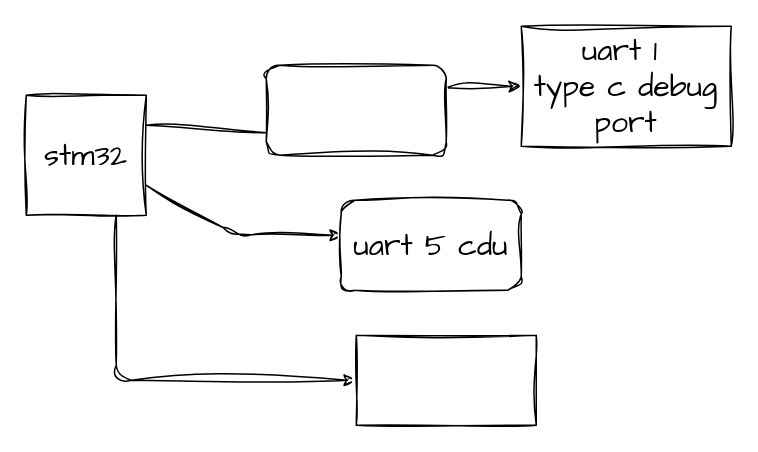
This 758x452 diagram has some shape labels left out. Here are the shapes that lost their labels. From the top down, the centre of each, then its label:
(355,109): ch340
(445,379): uart 4 NAV
